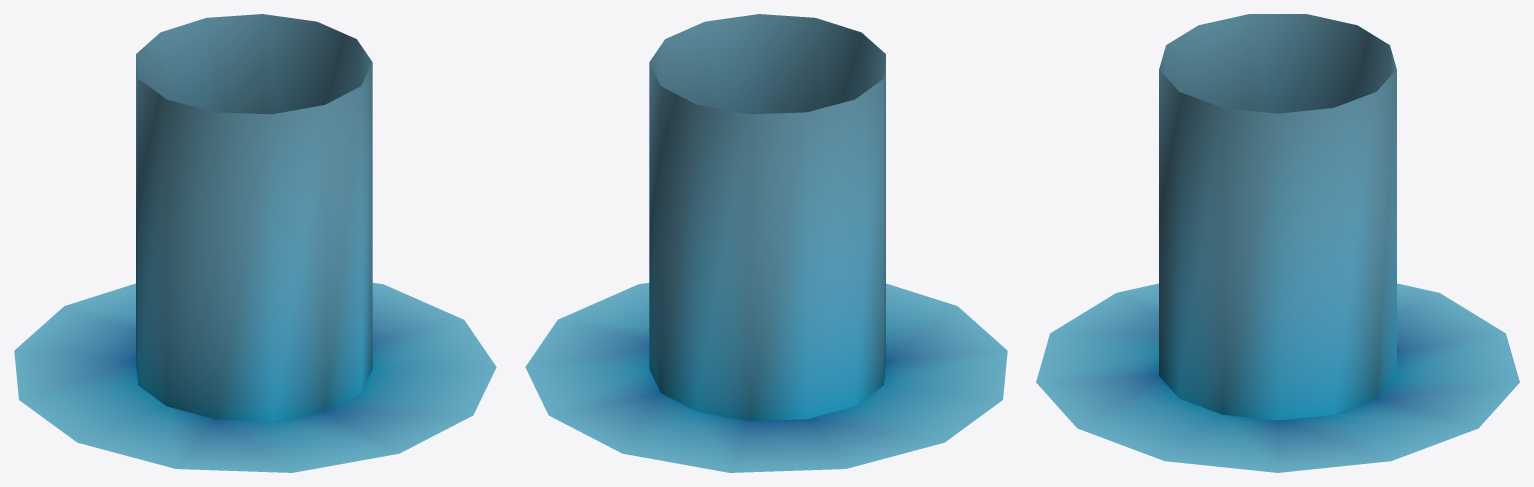
The model's file is LightRay_02.FBX.
3 renders of one model, left to right at view 1: azimuth 30°, elevation 25°; view 2: azimuth 150°, elevation 25°; view 3: azimuth 270°, elevation 25°, orthographic.
Parts seen in each view (by area): view 1: LightRay_02; view 2: LightRay_02; view 3: LightRay_02.
Part boxes in pixels (bbox=[...]): LightRay_02: bbox=[14, 14, 496, 472]; LightRay_02: bbox=[525, 14, 1007, 472]; LightRay_02: bbox=[1036, 14, 1519, 472].
Size of the model in its own units: 865 by 610 by 871.
